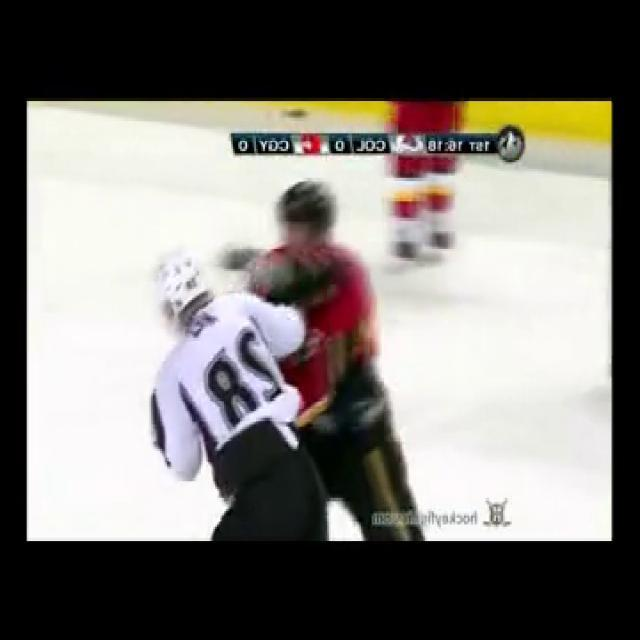non-violence: (380, 109, 466, 269)
violence: (151, 180, 420, 540)
